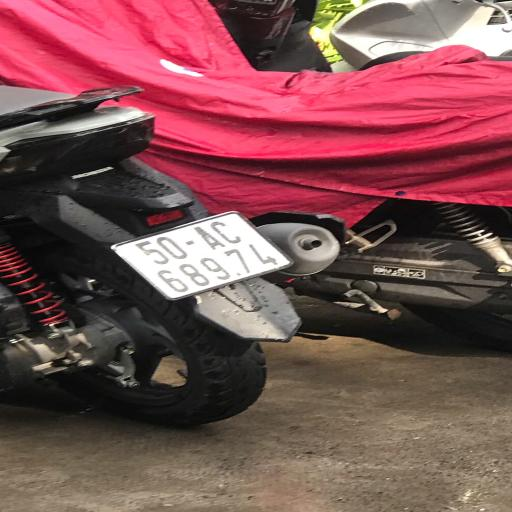0: (152, 234, 191, 266)
4: (247, 240, 290, 270)
5: (122, 240, 170, 268)
6: (150, 265, 193, 302)
7: (218, 249, 257, 277)
8: (177, 262, 215, 290)
9: (188, 255, 236, 284)
A: (179, 224, 230, 258)
C: (208, 218, 249, 249)
